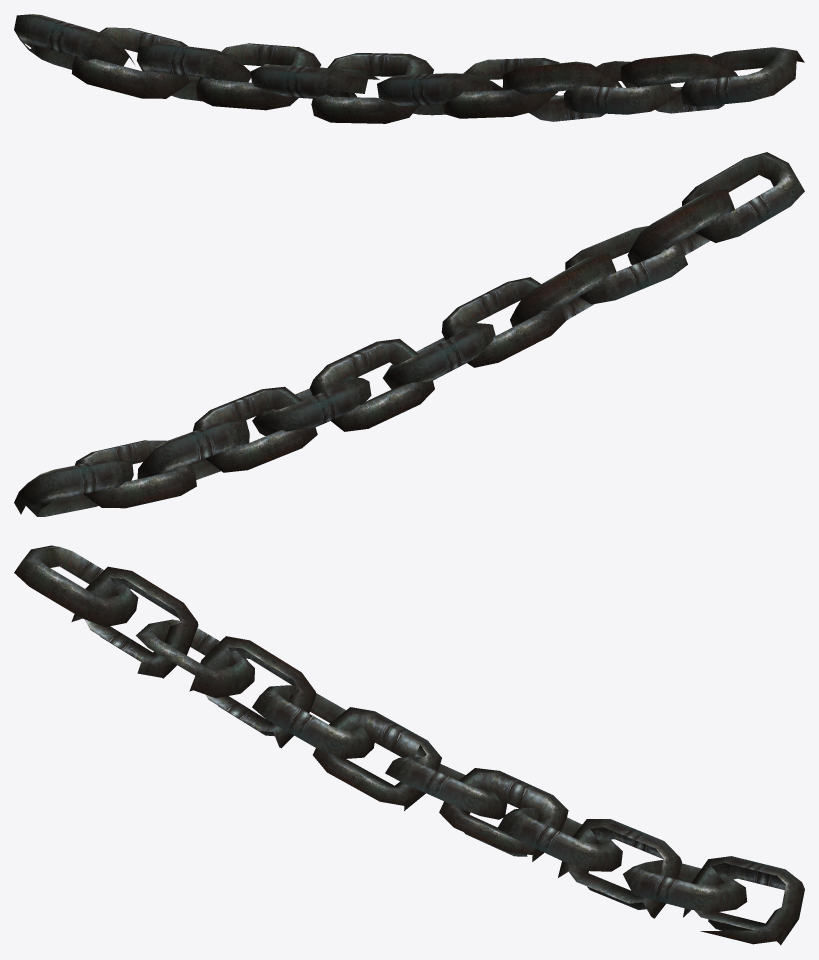
The model's file is S2_Build_XSC120_L3.FBX.
3 renders of one model, top to bottom at view 1: azimuth 90°, elevation 25°; view 2: azimuth 150°, elevation 25°; view 3: azimuth 270°, elevation 25°, orthographic. The views are drawn at different scales.
Parts seen in each view (by area): view 1: S2_Build_XSC120_L3; view 2: S2_Build_XSC120_L3; view 3: S2_Build_XSC120_L3.
Boxes of the visible parts, x1,y1,x2,y2 form: S2_Build_XSC120_L3: (14, 14, 804, 123); S2_Build_XSC120_L3: (14, 152, 804, 516); S2_Build_XSC120_L3: (14, 545, 804, 945).
Bounding box in the file's own units: 2853 × 1212 × 4322.
